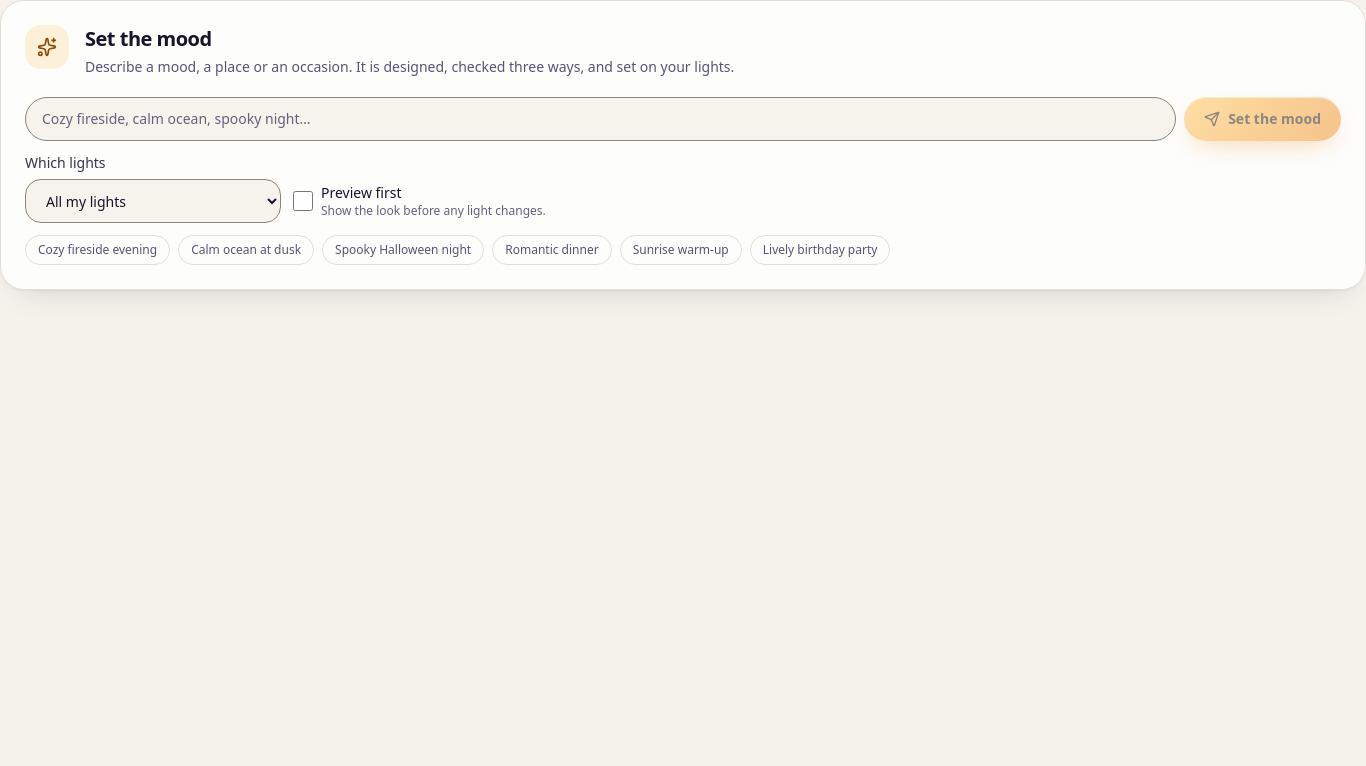
Set the mood: the box › sets the lights at once when every check is clean, and shows what was checked
Type "cozy fireside evening" into the field named "Describe the mood".
click(601, 119); type("cozy fireside evening")  # box [25,97,1176,141]
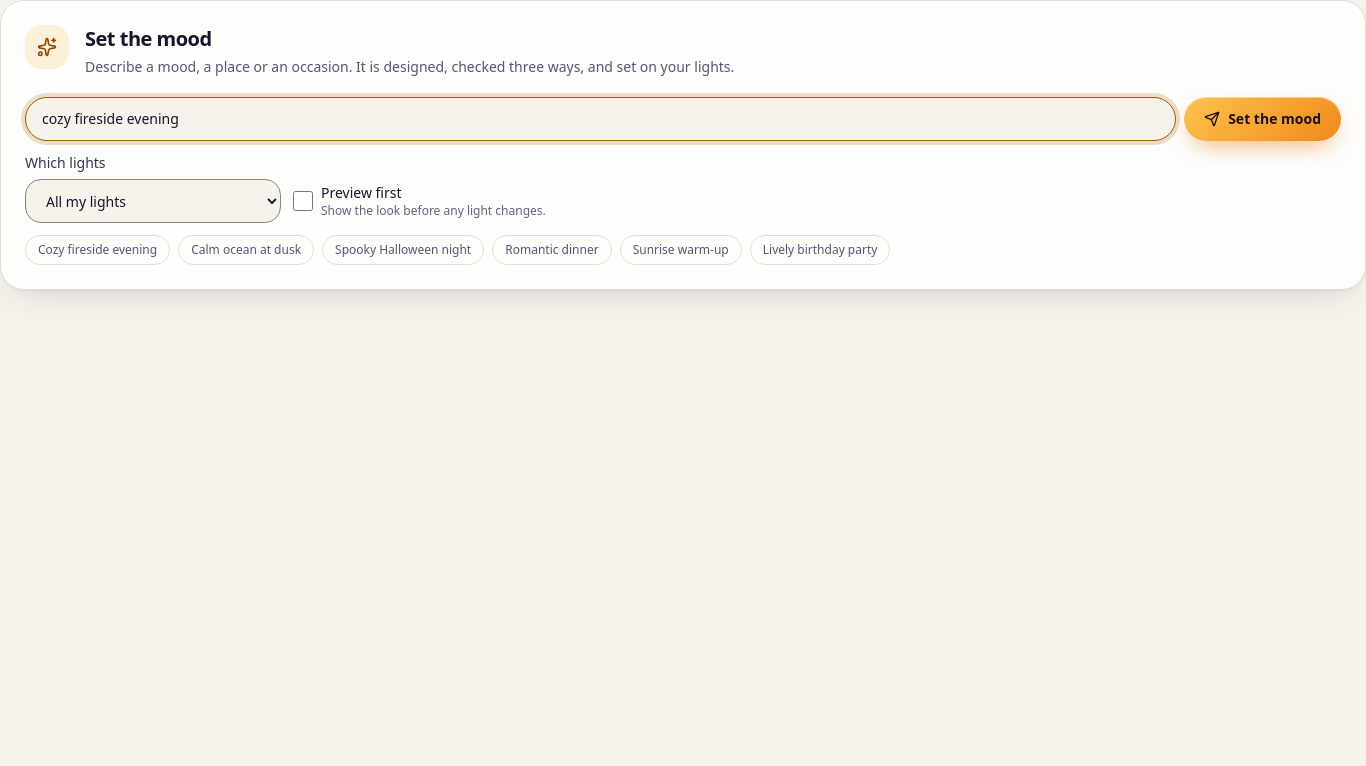
Click the button "Set the mood".
click(1263, 119)  # box [1184,97,1341,141]
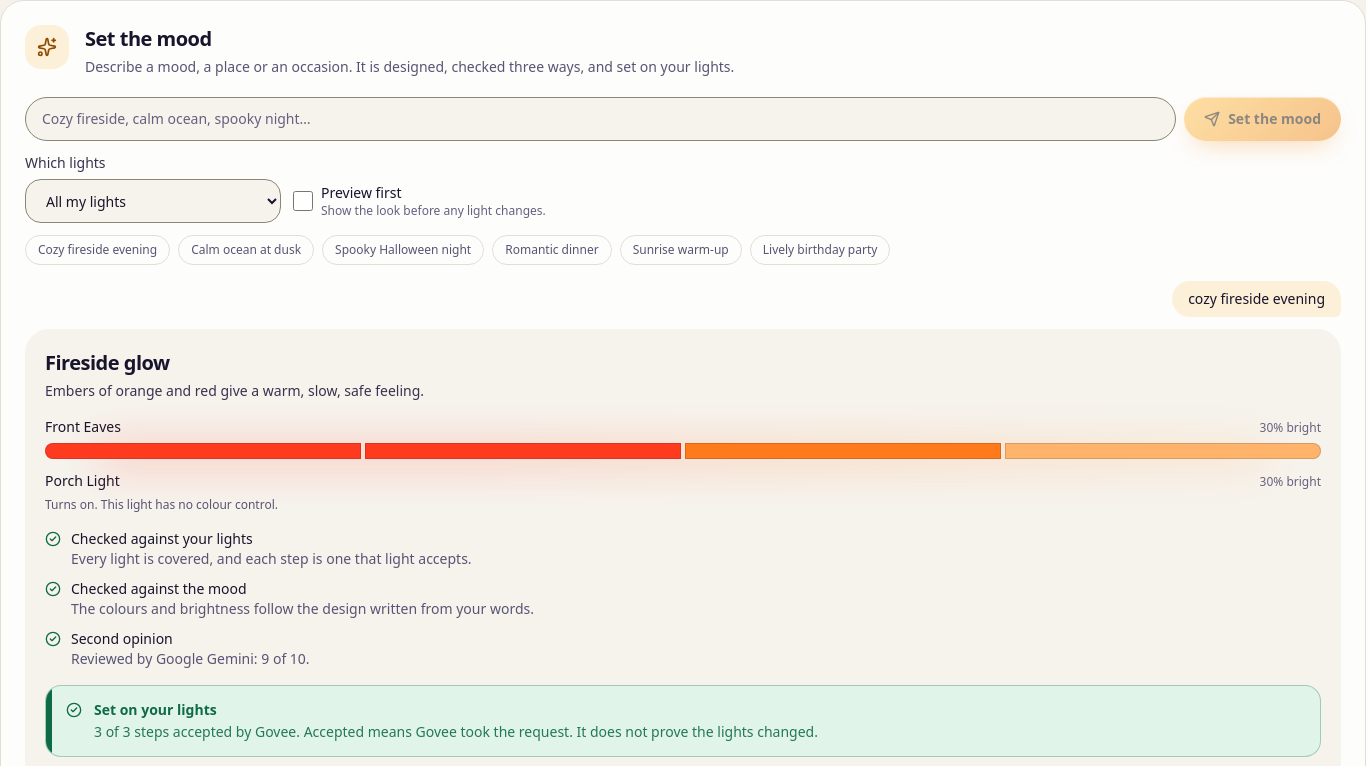
Expected: the text "Set on your lights" is shown, [94,700,217,719]
Expected: the heading "Fireside glow" is shown, [45,349,170,376]
Expected: the text "Embers of orange and red give a warm, slow, safe feeling." is shown, [45,381,424,400]
